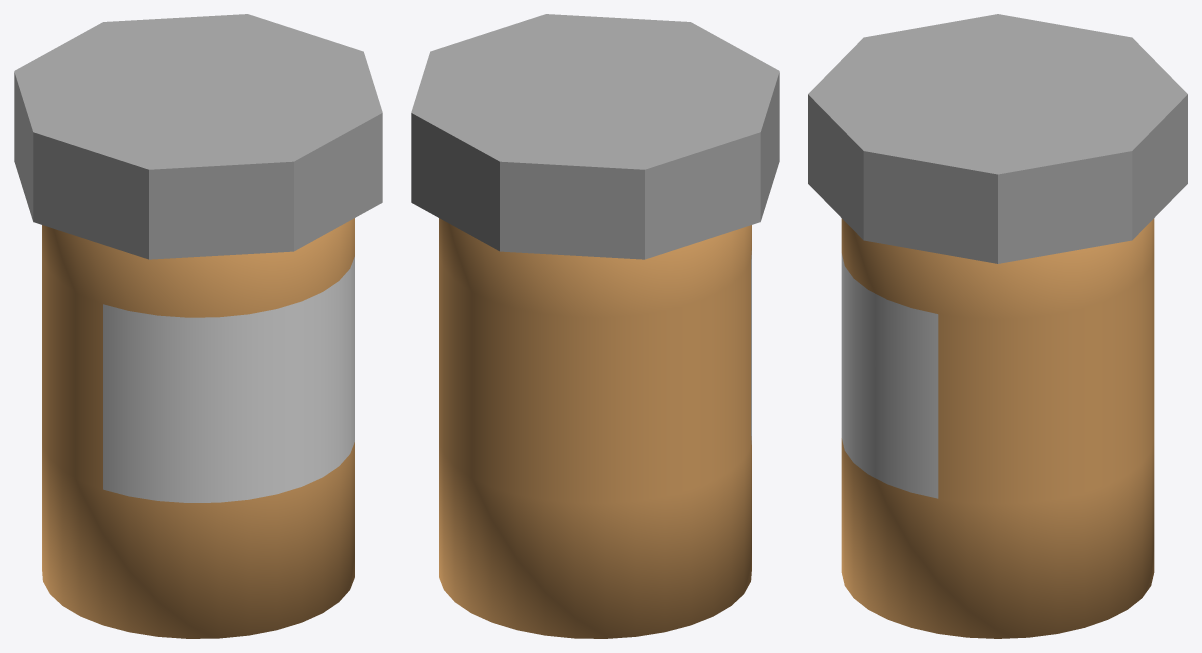
Rendered from pills.fbx.
The picture shows the model from 3 angles, left to right: view 1: azimuth 30°, elevation 25°; view 2: azimuth 150°, elevation 25°; view 3: azimuth 270°, elevation 25°; orthographic projection.
Parts seen in each view (by area): view 1: Cylinder; view 2: Cylinder; view 3: Cylinder.
Part boxes in pixels (x1,y1,x2,y2): Cylinder: [14, 14, 382, 638]; Cylinder: [411, 14, 779, 638]; Cylinder: [808, 14, 1187, 638].
Bounding box in the file's own units: 243 × 338 × 243.
